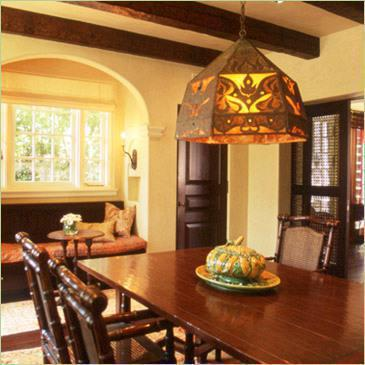Puerta: (180, 111, 228, 245)
Ventana: (8, 99, 117, 199)
